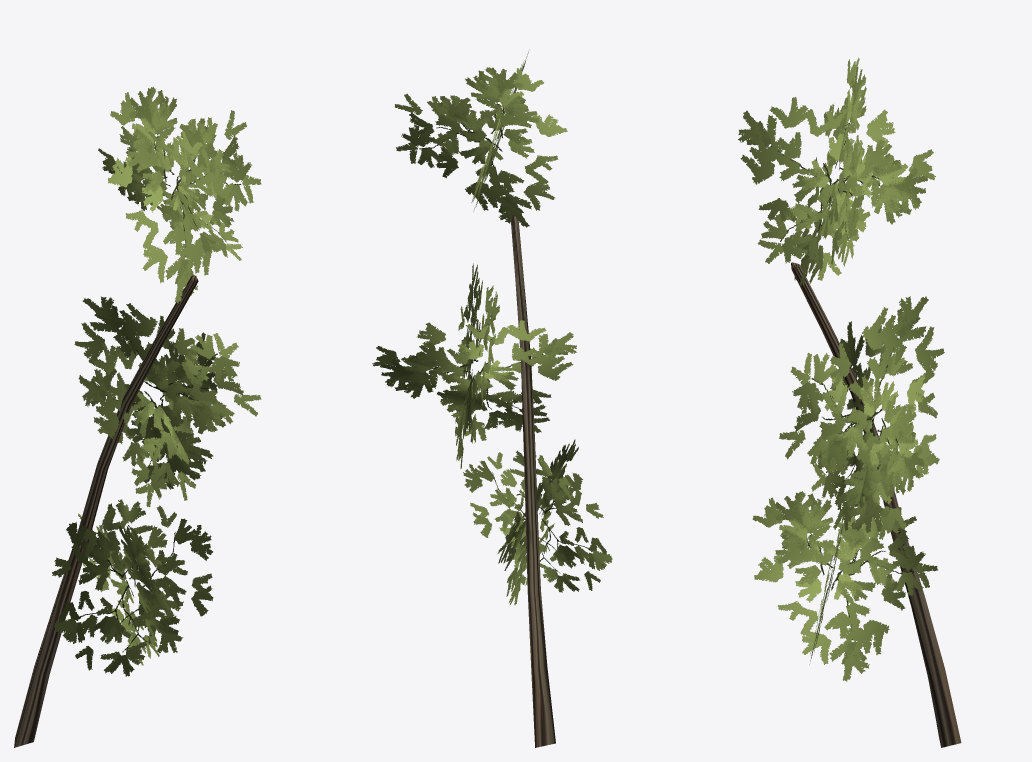
File: seedling-a.lod1.glb
The picture shows the model from 3 angles, left to right: view 1: azimuth 30°, elevation 25°; view 2: azimuth 150°, elevation 25°; view 3: azimuth 270°, elevation 25°; orthographic projection. The views are drawn at different scales.
Parts seen in each view (by area): view 1: foliage, bark; view 2: foliage, bark; view 3: foliage, bark.
Part boxes in pixels (left/top/right/bottom): foliage: left=52, top=86, right=261, bottom=676; bark: left=14, top=275, right=198, bottom=747; foliage: left=372, top=51, right=612, bottom=605; bark: left=510, top=203, right=555, bottom=747; foliage: left=738, top=57, right=944, bottom=681; bark: left=791, top=262, right=961, bottom=747.
Size of the model in its own units: 0.1473 by 0.35 by 0.1372.
Materials: 2 (2 with a texture image).
